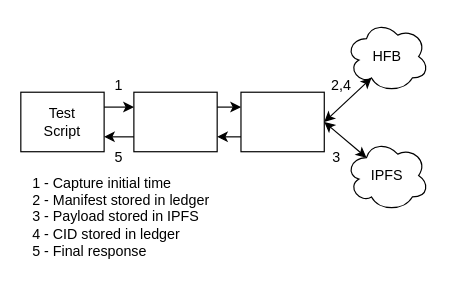
The diagram is 450 pixels wide and 292 high, and some of its shapes have lost their labels. The shapes that lost their labels are listed below. From the top down, each one's centre as x and y in pixels, then its label:
the point at 175,121: Author Agent
the point at 282,121: Registration Agent
